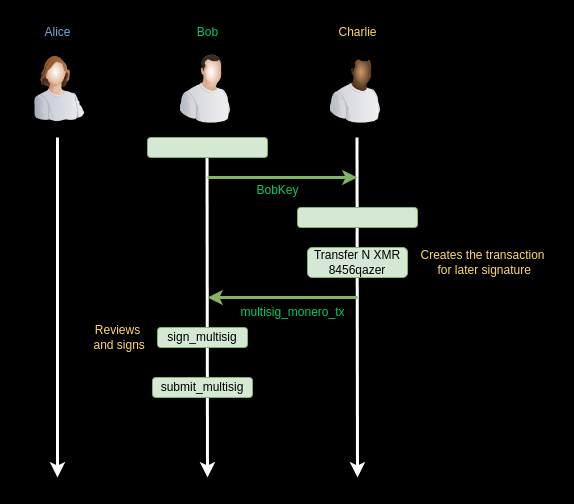
The diagram is 574 pixels wide and 504 high, and some of its shapes have lost their labels. Here are the shapes that lost their labels. From the top down, the centre of each, then its label:
the point at 207,147: export_multisig_info
the point at 357,217: import_multisig_info
